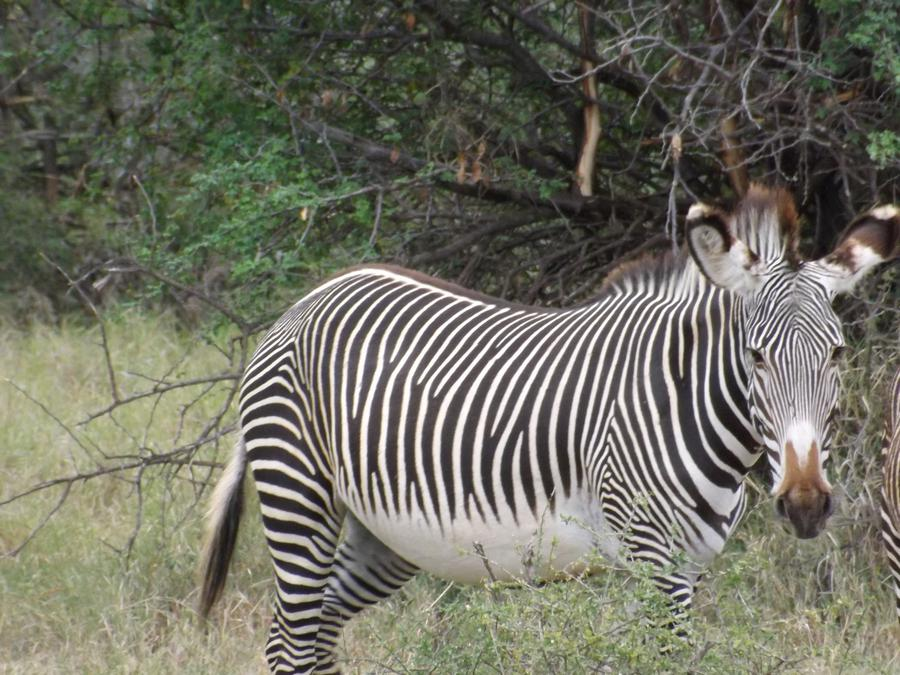zebra_grevys: (235, 241, 703, 580)
